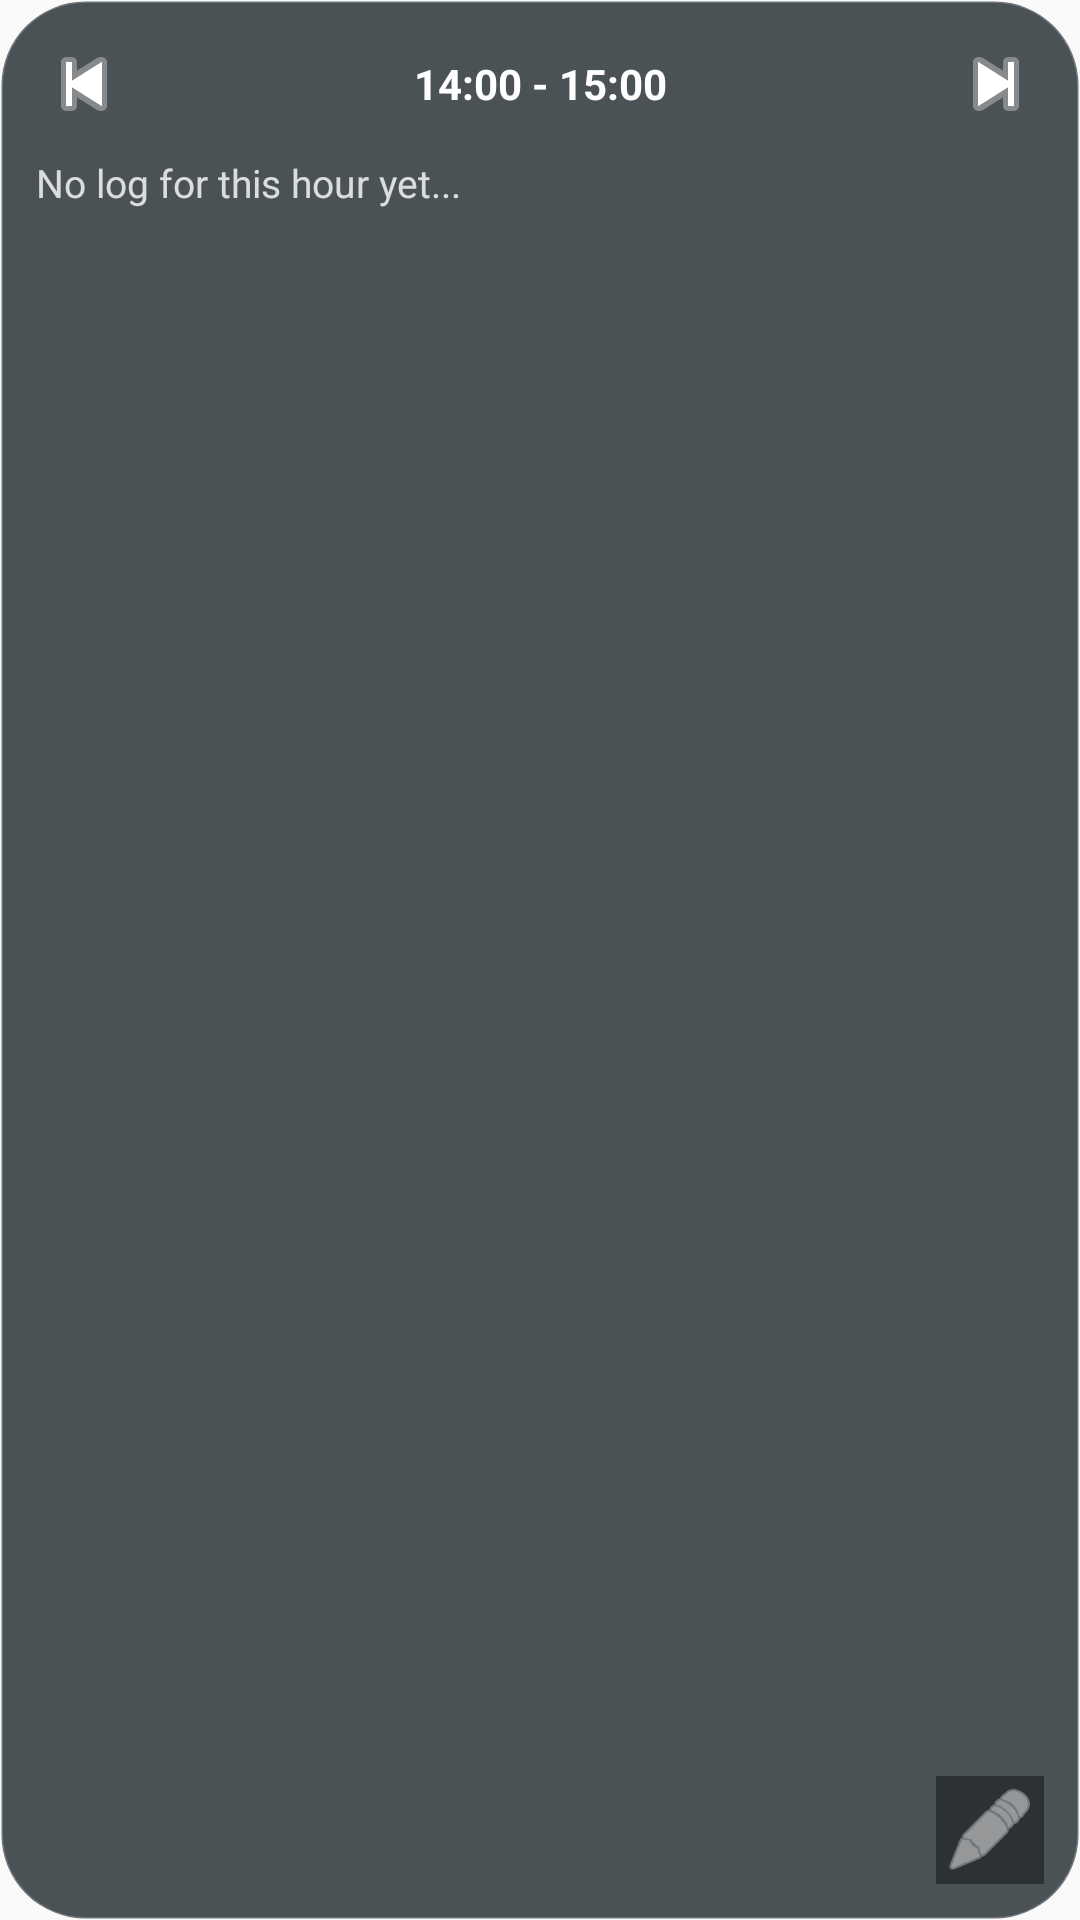

Screen size 1080 × 1920. Icon name, then its center in pixels as (x,y):
edit: (990,1830)
next: (996,84)
previous: (84,84)
